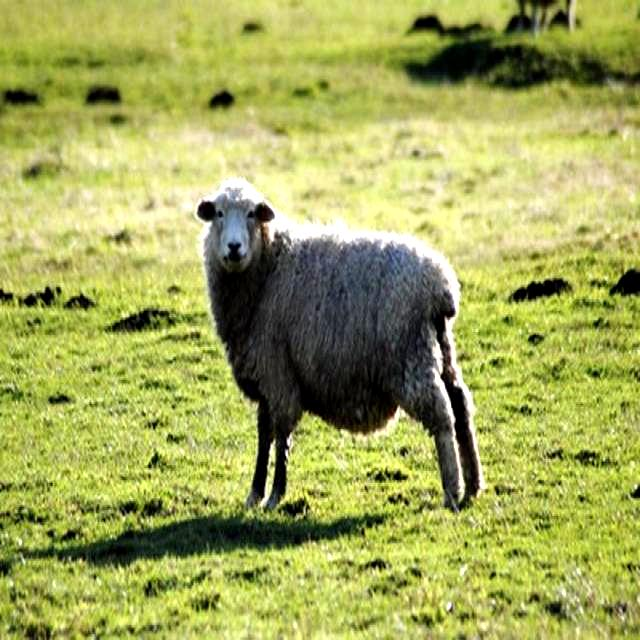sheep: (195, 179, 480, 513)
